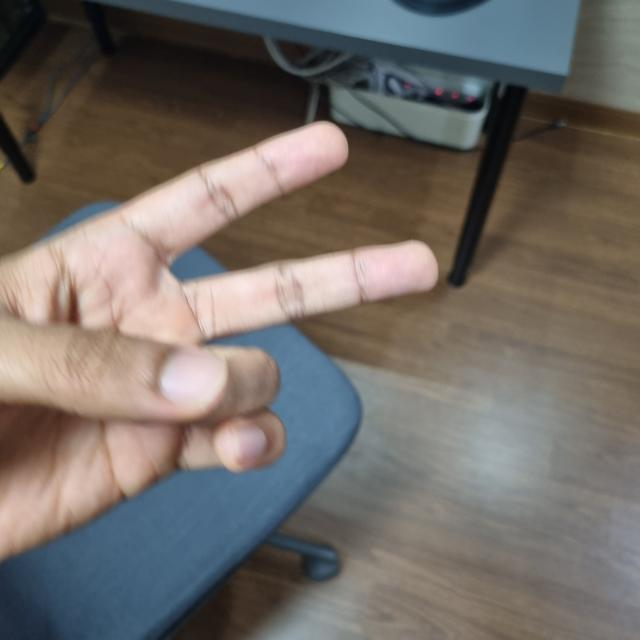Scissors: (0, 124, 434, 597)
